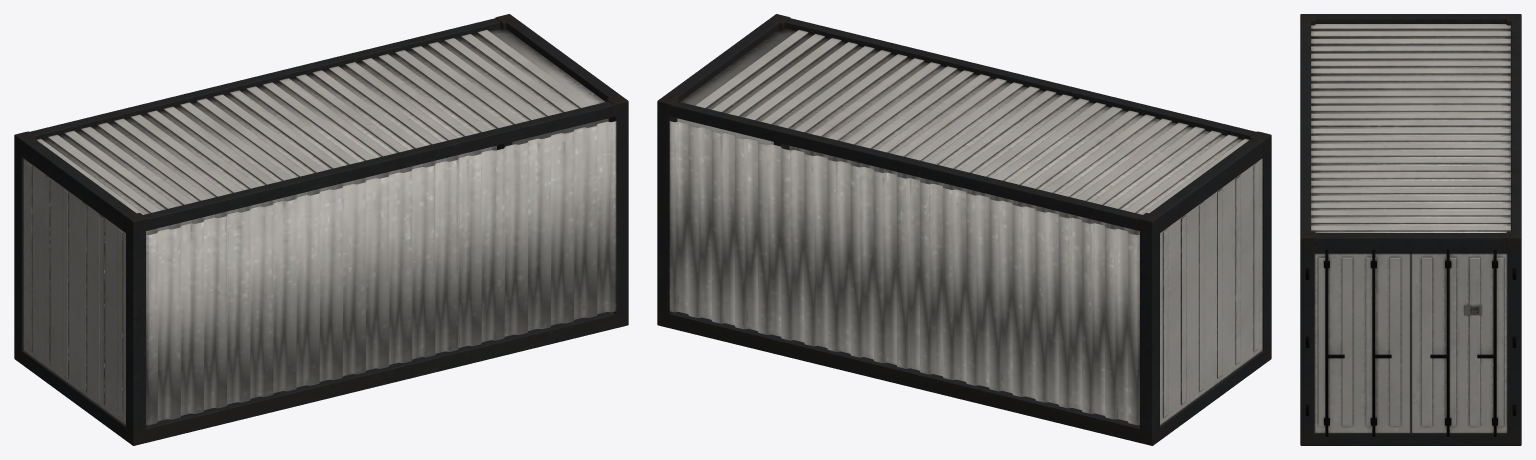
The model's file is container.glb.
3 views of the same model, side by side, from view 1: azimuth 30°, elevation 25°; view 2: azimuth 150°, elevation 25°; view 3: azimuth 270°, elevation 25° (orthographic). The views are drawn at different scales.
Visible parts, largest first — view 1: container; view 2: container; view 3: container.
Boxes of the visible parts, bbox=[...] form: container: bbox=[14, 14, 628, 445]; container: bbox=[657, 14, 1271, 445]; container: bbox=[1300, 14, 1521, 445].
Bounding box in the file's own units: 6.08 × 2.6 × 2.5.
Materials: 1 (1 with a texture image).
